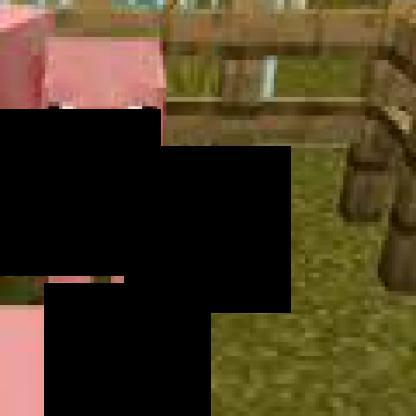minecraft-pigs: (34, 23, 171, 320), (0, 0, 70, 334), (0, 286, 177, 412)
